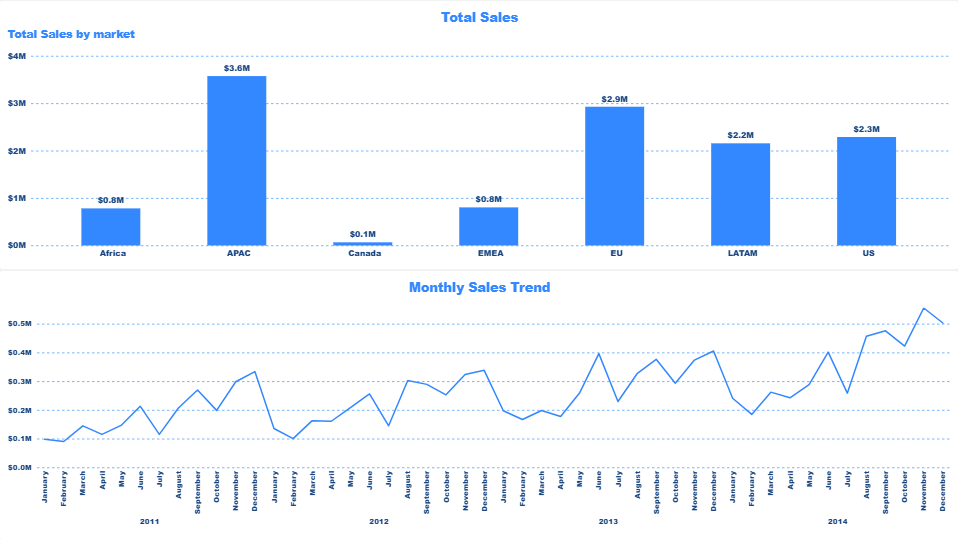

The dashboard page shown, as its layout file describes it:
{"tool":"powerbi","page":{"name":"Sales Analysis","canvas":[1920,1080],"ordinal":2},"visuals":[{"type":"columnChart","title":"Total Sales","fields":{"Category":["cleaned_df.region","cleaned_df.market","cleaned_df.category"],"Y":["Sum(cleaned_df.sales)"]},"box":[9.6,0,1910.4,539.3],"z":0},{"type":"lineChart","title":"Monthly Sales Trend ","fields":{"Category":["cleaned_df.order_date.Variation.Date Hierarchy.Year","cleaned_df.order_date.Variation.Date Hierarchy.Month"],"Y":["Sum(cleaned_df.sales)"]},"box":[10.1,540,1910.2,540],"z":1000}]}

Visuals, with their boxes in screenshot pixels (x1, y1, x2, y2), scaled from the page's 1920x1080 canvas onto the 958x539 screenshot:
"Total Sales" columnChart: [5,0,957,269]
"Monthly Sales Trend " lineChart: [5,270,957,538]
